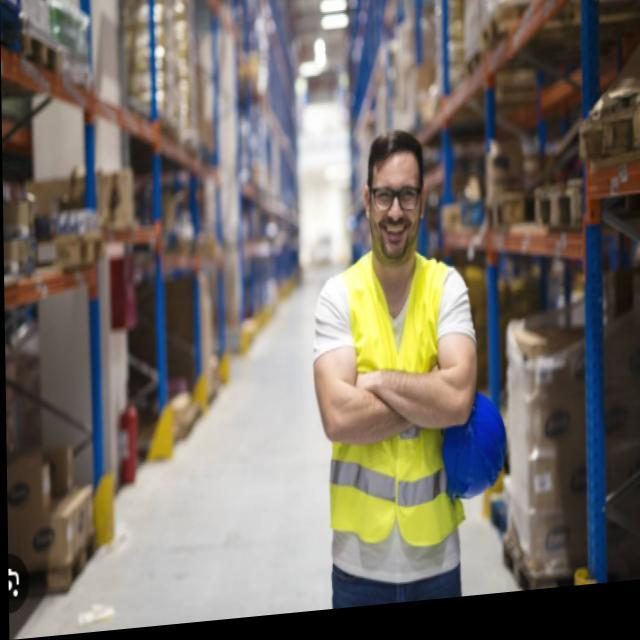vest: (318, 243, 471, 562)
